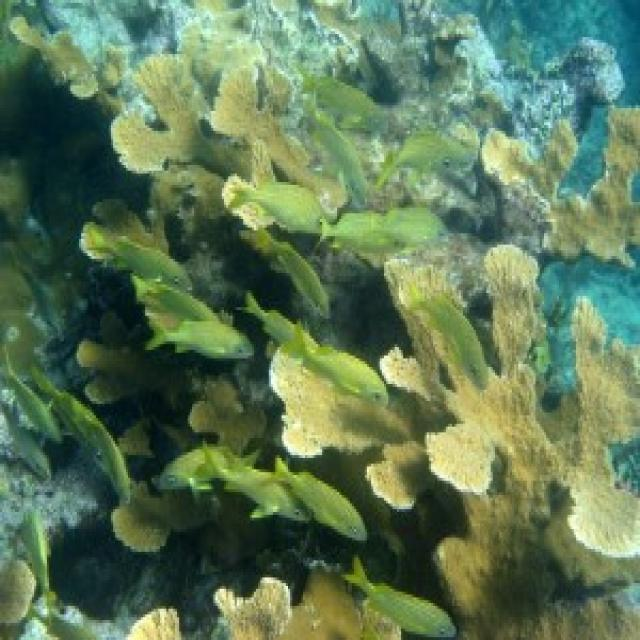Healthy: (383, 246, 639, 638), (112, 55, 338, 197), (481, 109, 639, 266), (270, 354, 430, 507), (214, 570, 400, 638)
